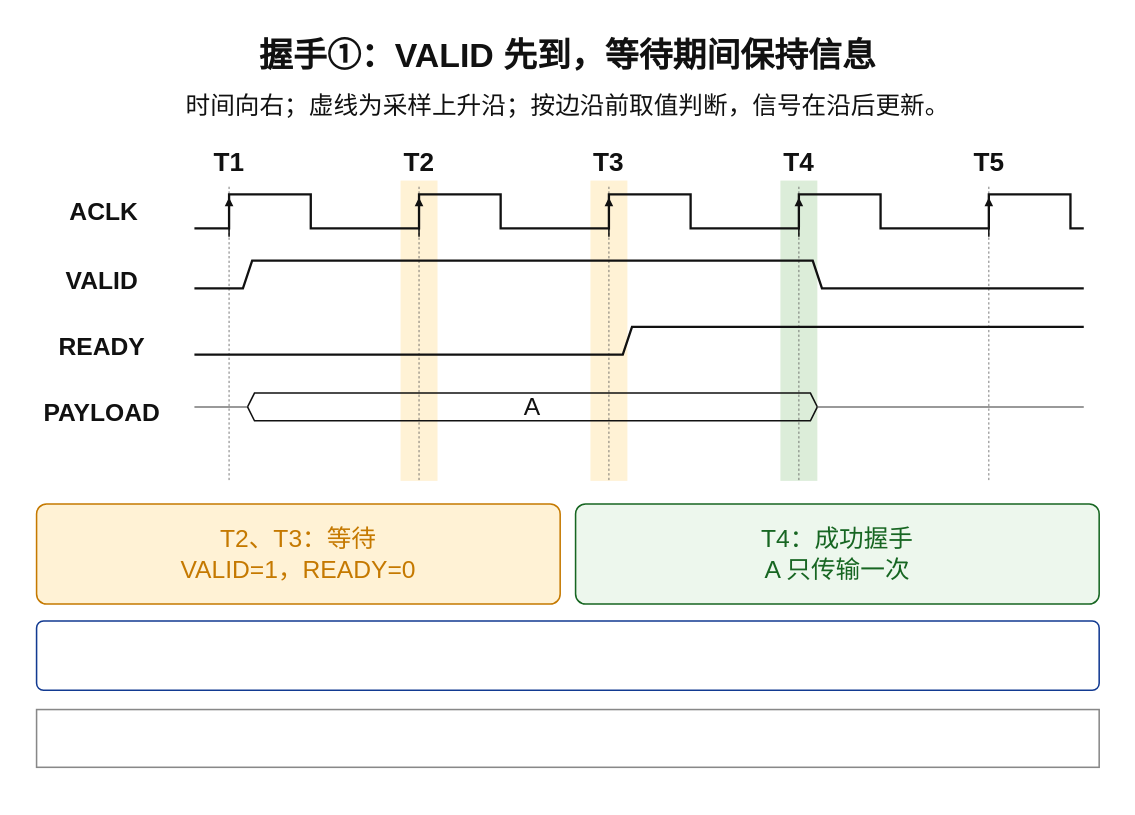
The diagram is 1135 pixels wide and 815 high, and some of its shapes have lost their labels. Each missing label, with the centre of its shape:
"发送方驱动 VALID 与信息；接收方驱动 READY；A 表示当前完整通道载荷。" belongs at [567,738].
"等待期间 VALID 不撤销，当前地址 / 数据 / 控制信息保持稳定。" belongs at [567,655].
